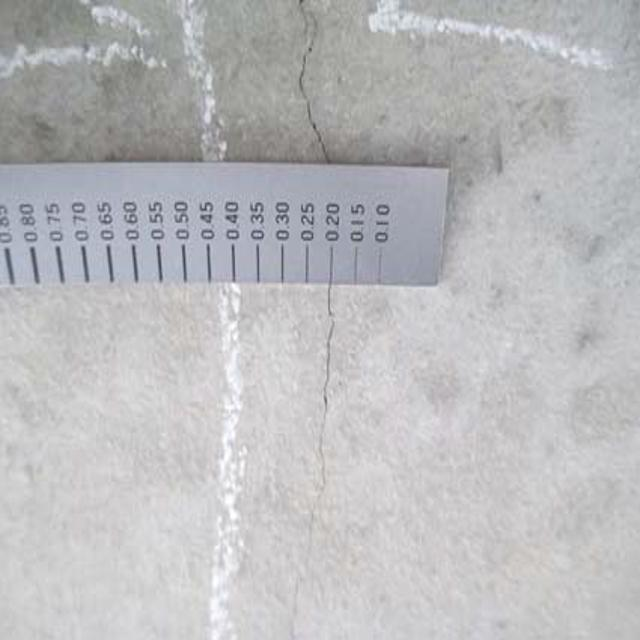crack: (301, 294, 380, 624), (284, 6, 357, 163)
